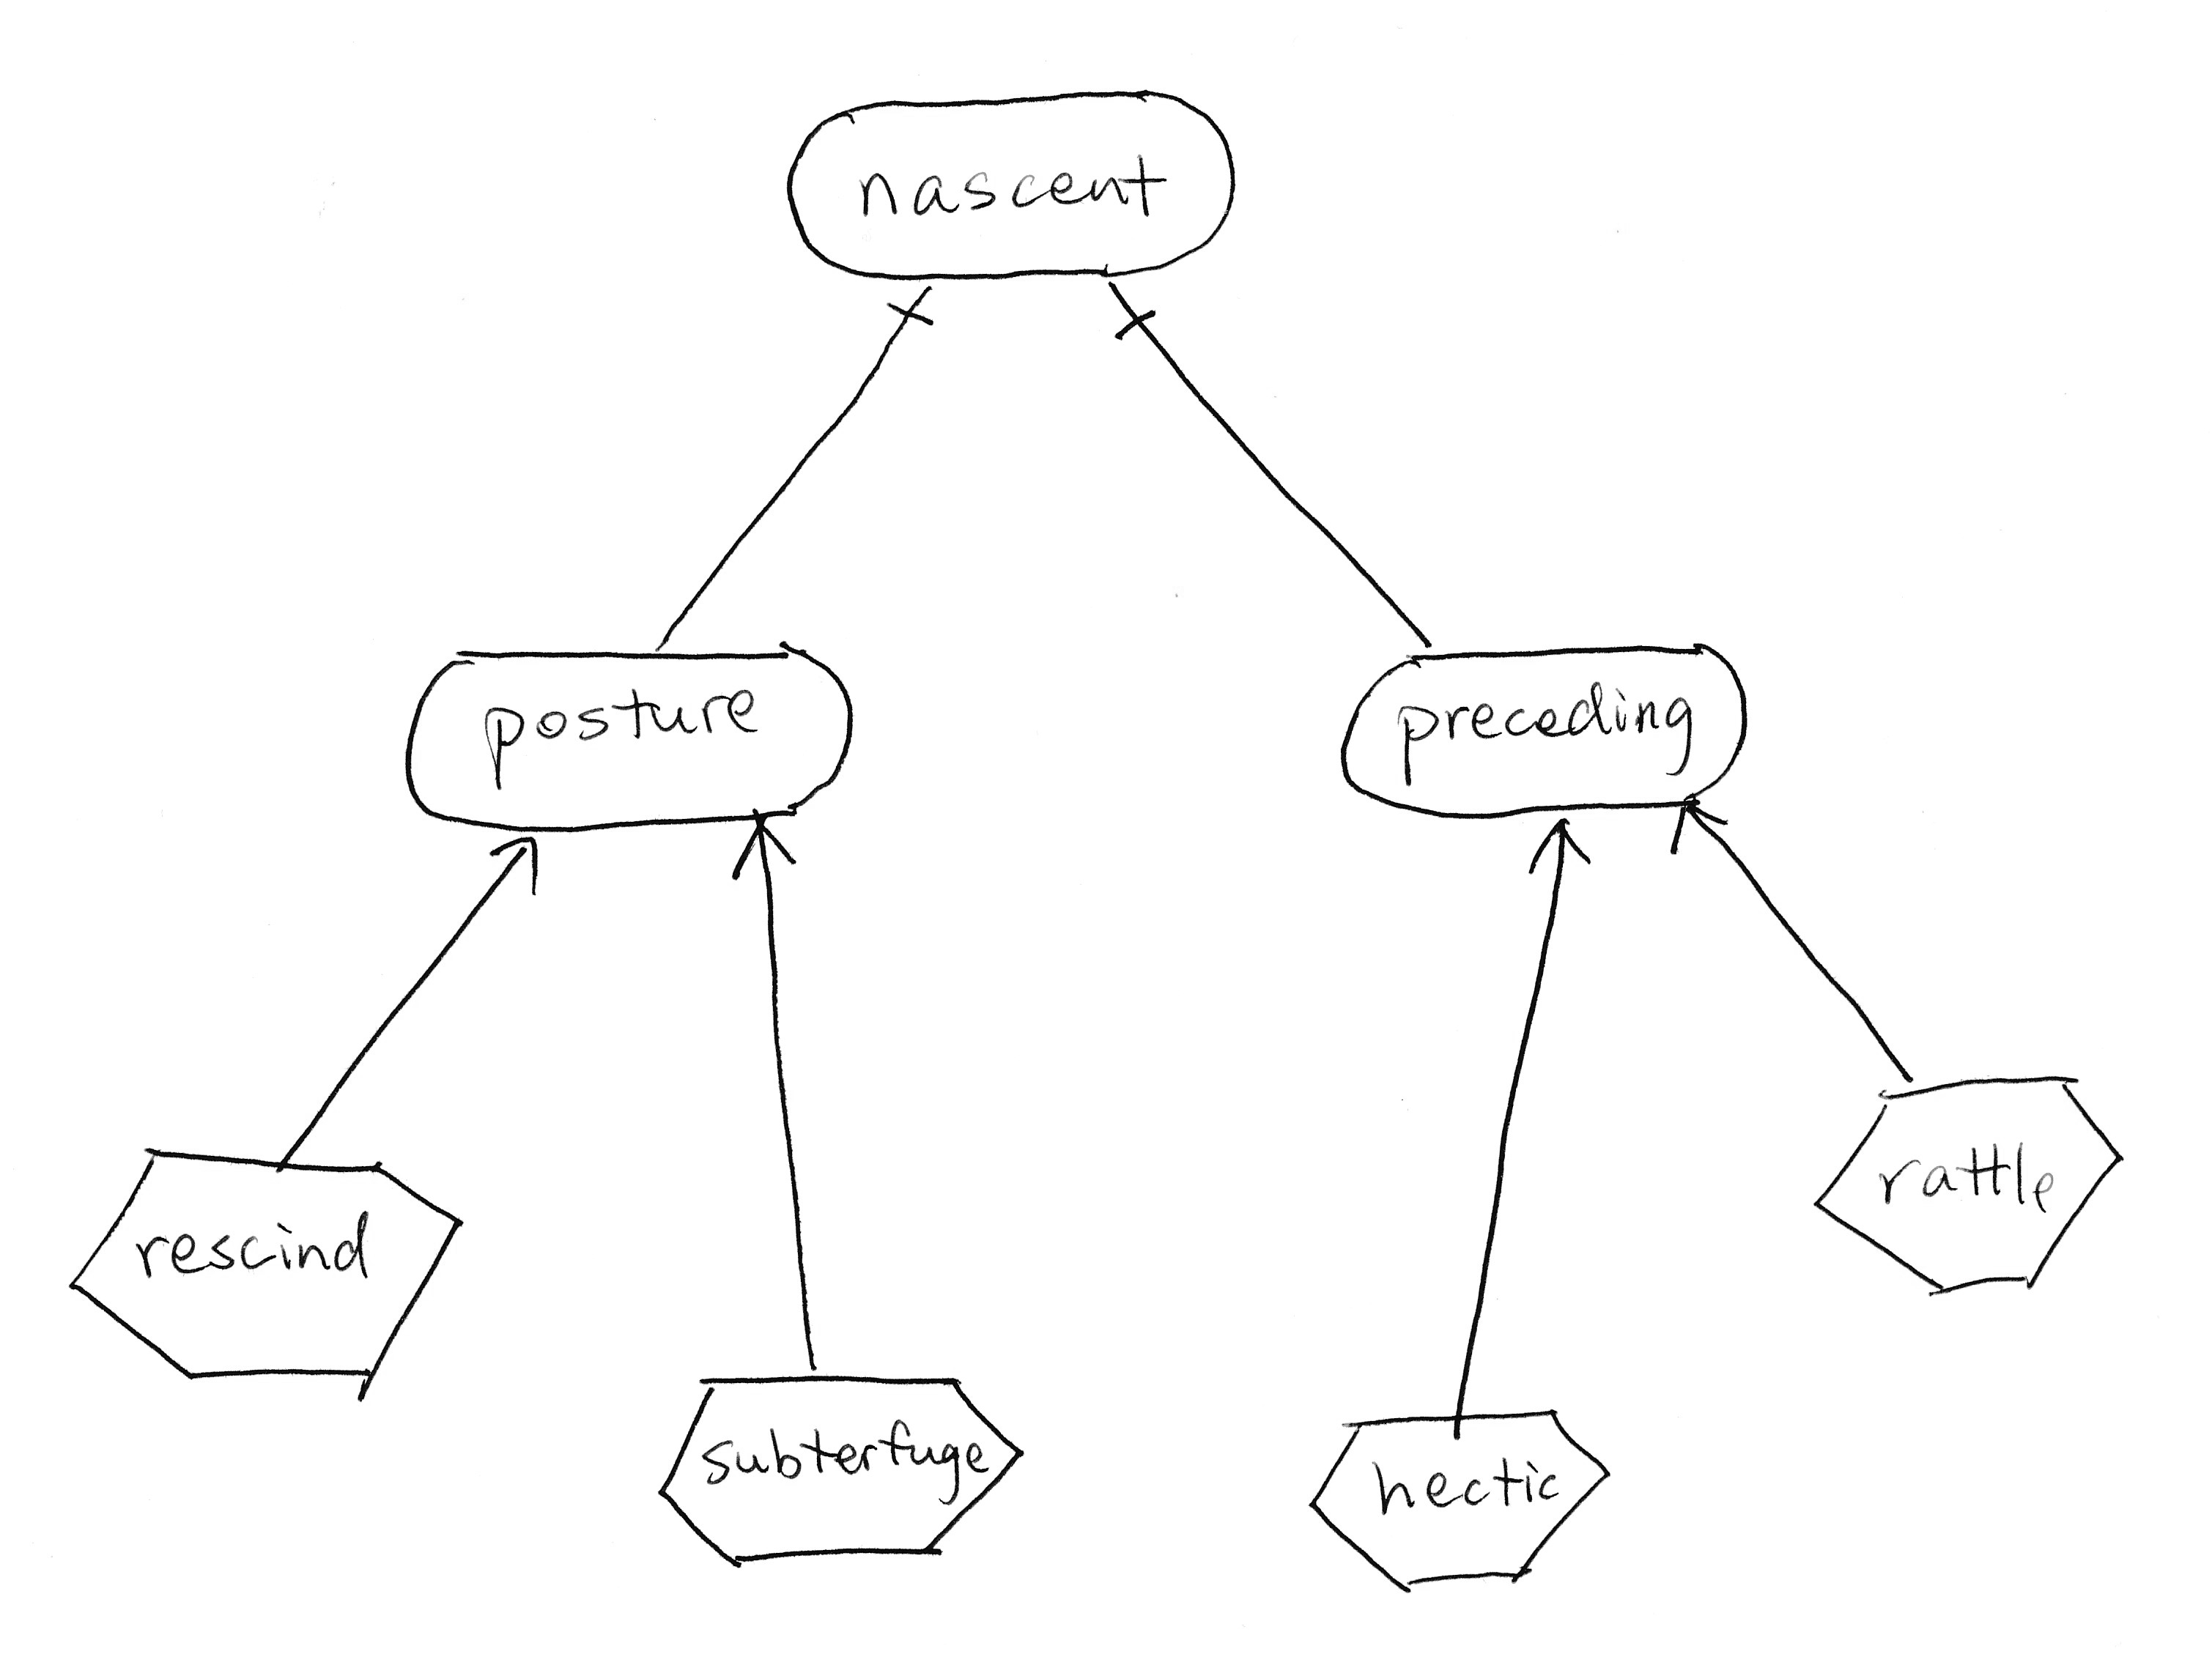and: (1081, 269, 1183, 361), (865, 276, 958, 340)
arrow: (713, 796, 815, 893), (1513, 799, 1599, 894), (476, 819, 558, 910), (1663, 789, 1738, 864)
goal: (764, 72, 1256, 306), (387, 628, 875, 850), (1321, 620, 1777, 831)
task: (49, 1130, 476, 1401), (1791, 1056, 2149, 1313), (643, 1357, 1043, 1581), (1293, 1398, 1636, 1606)
